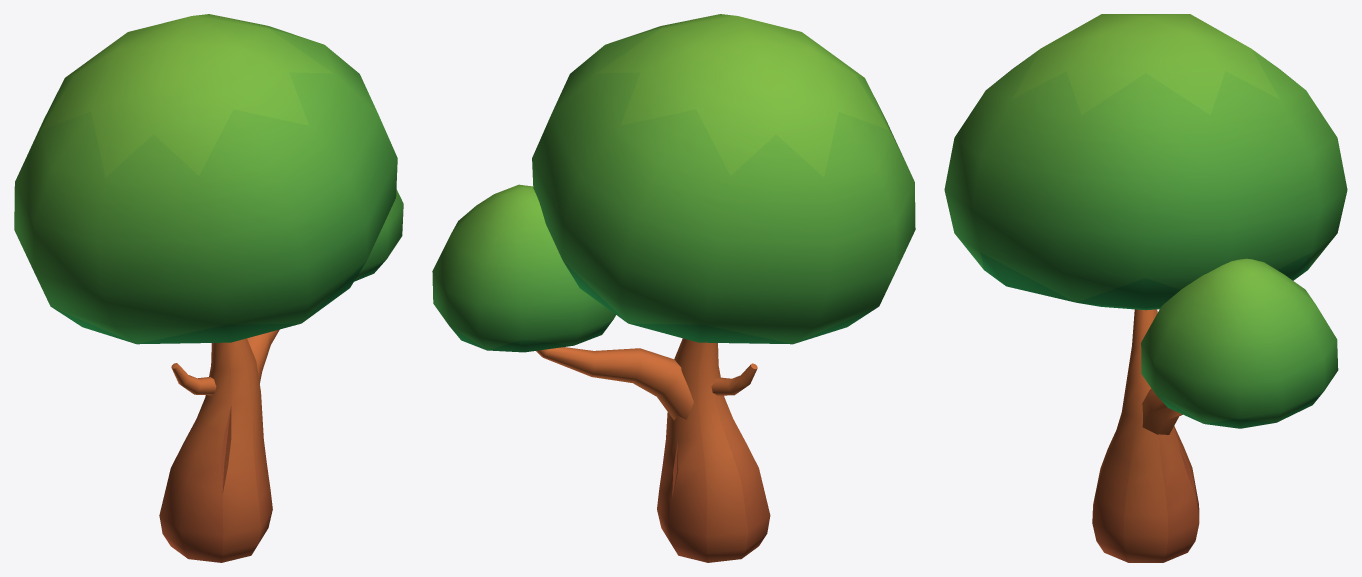
Rendered from Tree_1_B_Color1.glb.
3 renders of one model, left to right at view 1: azimuth 30°, elevation 25°; view 2: azimuth 150°, elevation 25°; view 3: azimuth 270°, elevation 25°, orthographic.
Visible parts, largest first — view 1: Tree_1_B_Color1; view 2: Tree_1_B_Color1; view 3: Tree_1_B_Color1.
Part boxes in pixels (x1,y1,x2,y2): Tree_1_B_Color1: [14, 14, 403, 562]; Tree_1_B_Color1: [432, 14, 915, 562]; Tree_1_B_Color1: [944, 14, 1347, 562].
Size of the model in its own units: 4.01 by 4.93 by 3.45.
Materials: 1 (1 with a texture image).
